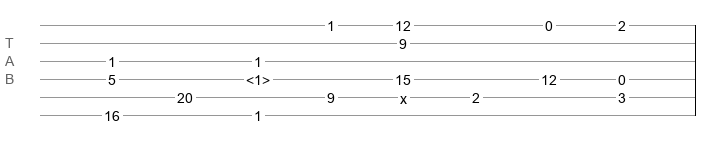0: (545, 18, 553, 28), (618, 72, 626, 82)
1: (108, 54, 116, 64), (254, 54, 262, 64), (254, 108, 262, 118), (327, 18, 335, 28)
12: (395, 18, 411, 28), (541, 72, 557, 82)
15: (395, 72, 411, 82)
16: (104, 108, 120, 118)
2: (472, 90, 480, 100), (618, 18, 626, 28)
20: (177, 90, 193, 100)
3: (618, 90, 626, 100)
5: (108, 72, 116, 82)
9: (327, 90, 335, 100), (399, 36, 407, 46)
harmonic: (246, 72, 270, 82)
x: (400, 91, 407, 99)
